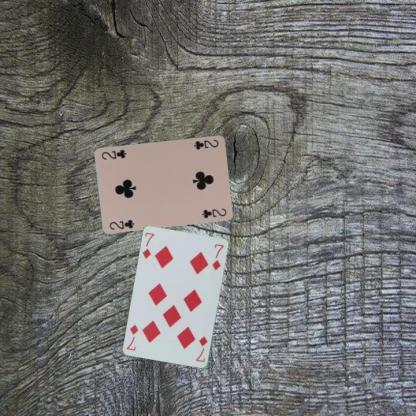2c: (191, 136, 220, 151), (107, 216, 136, 231)
7d: (140, 230, 156, 260), (193, 334, 209, 363)
